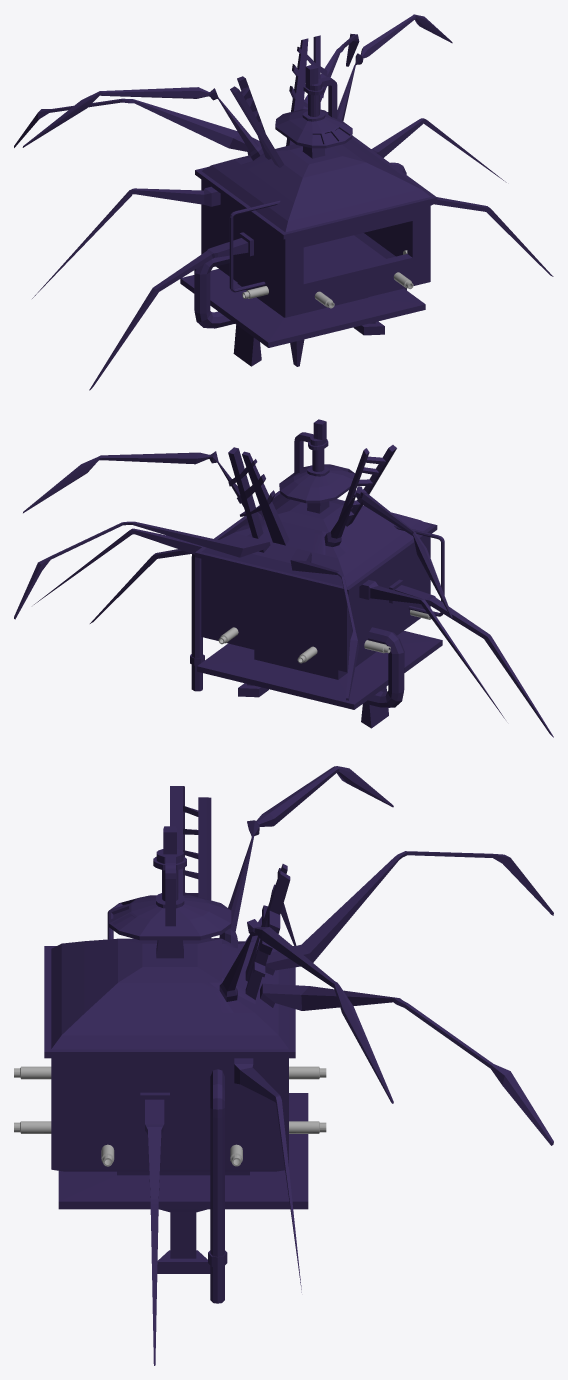
File: bossFBX.fbx
3 views of the same model, one above another, from view 1: azimuth 30°, elevation 25°; view 2: azimuth 150°, elevation 25°; view 3: azimuth 270°, elevation 25° (orthographic). The views are drawn at different scales.
Visible parts, largest first — view 1: rotateableBody_GEO, baseBody_GEO, rotatableHead_GEO; view 2: rotateableBody_GEO, baseBody_GEO, rotatableHead_GEO; view 3: rotateableBody_GEO, baseBody_GEO, rotatableHead_GEO.
Part boxes in pixels (x1,y1,x2,y2): rotateableBody_GEO: (14, 14, 553, 390); baseBody_GEO: (180, 64, 425, 366); rotatableHead_GEO: (275, 109, 352, 148); rotateableBody_GEO: (14, 445, 553, 737); baseBody_GEO: (190, 419, 442, 728); rotatableHead_GEO: (279, 464, 354, 503); rotateableBody_GEO: (44, 766, 553, 1365); baseBody_GEO: (58, 826, 308, 1303); rotatableHead_GEO: (109, 893, 231, 940).
Bounding box in the file's own units: 694 × 389 × 479.
